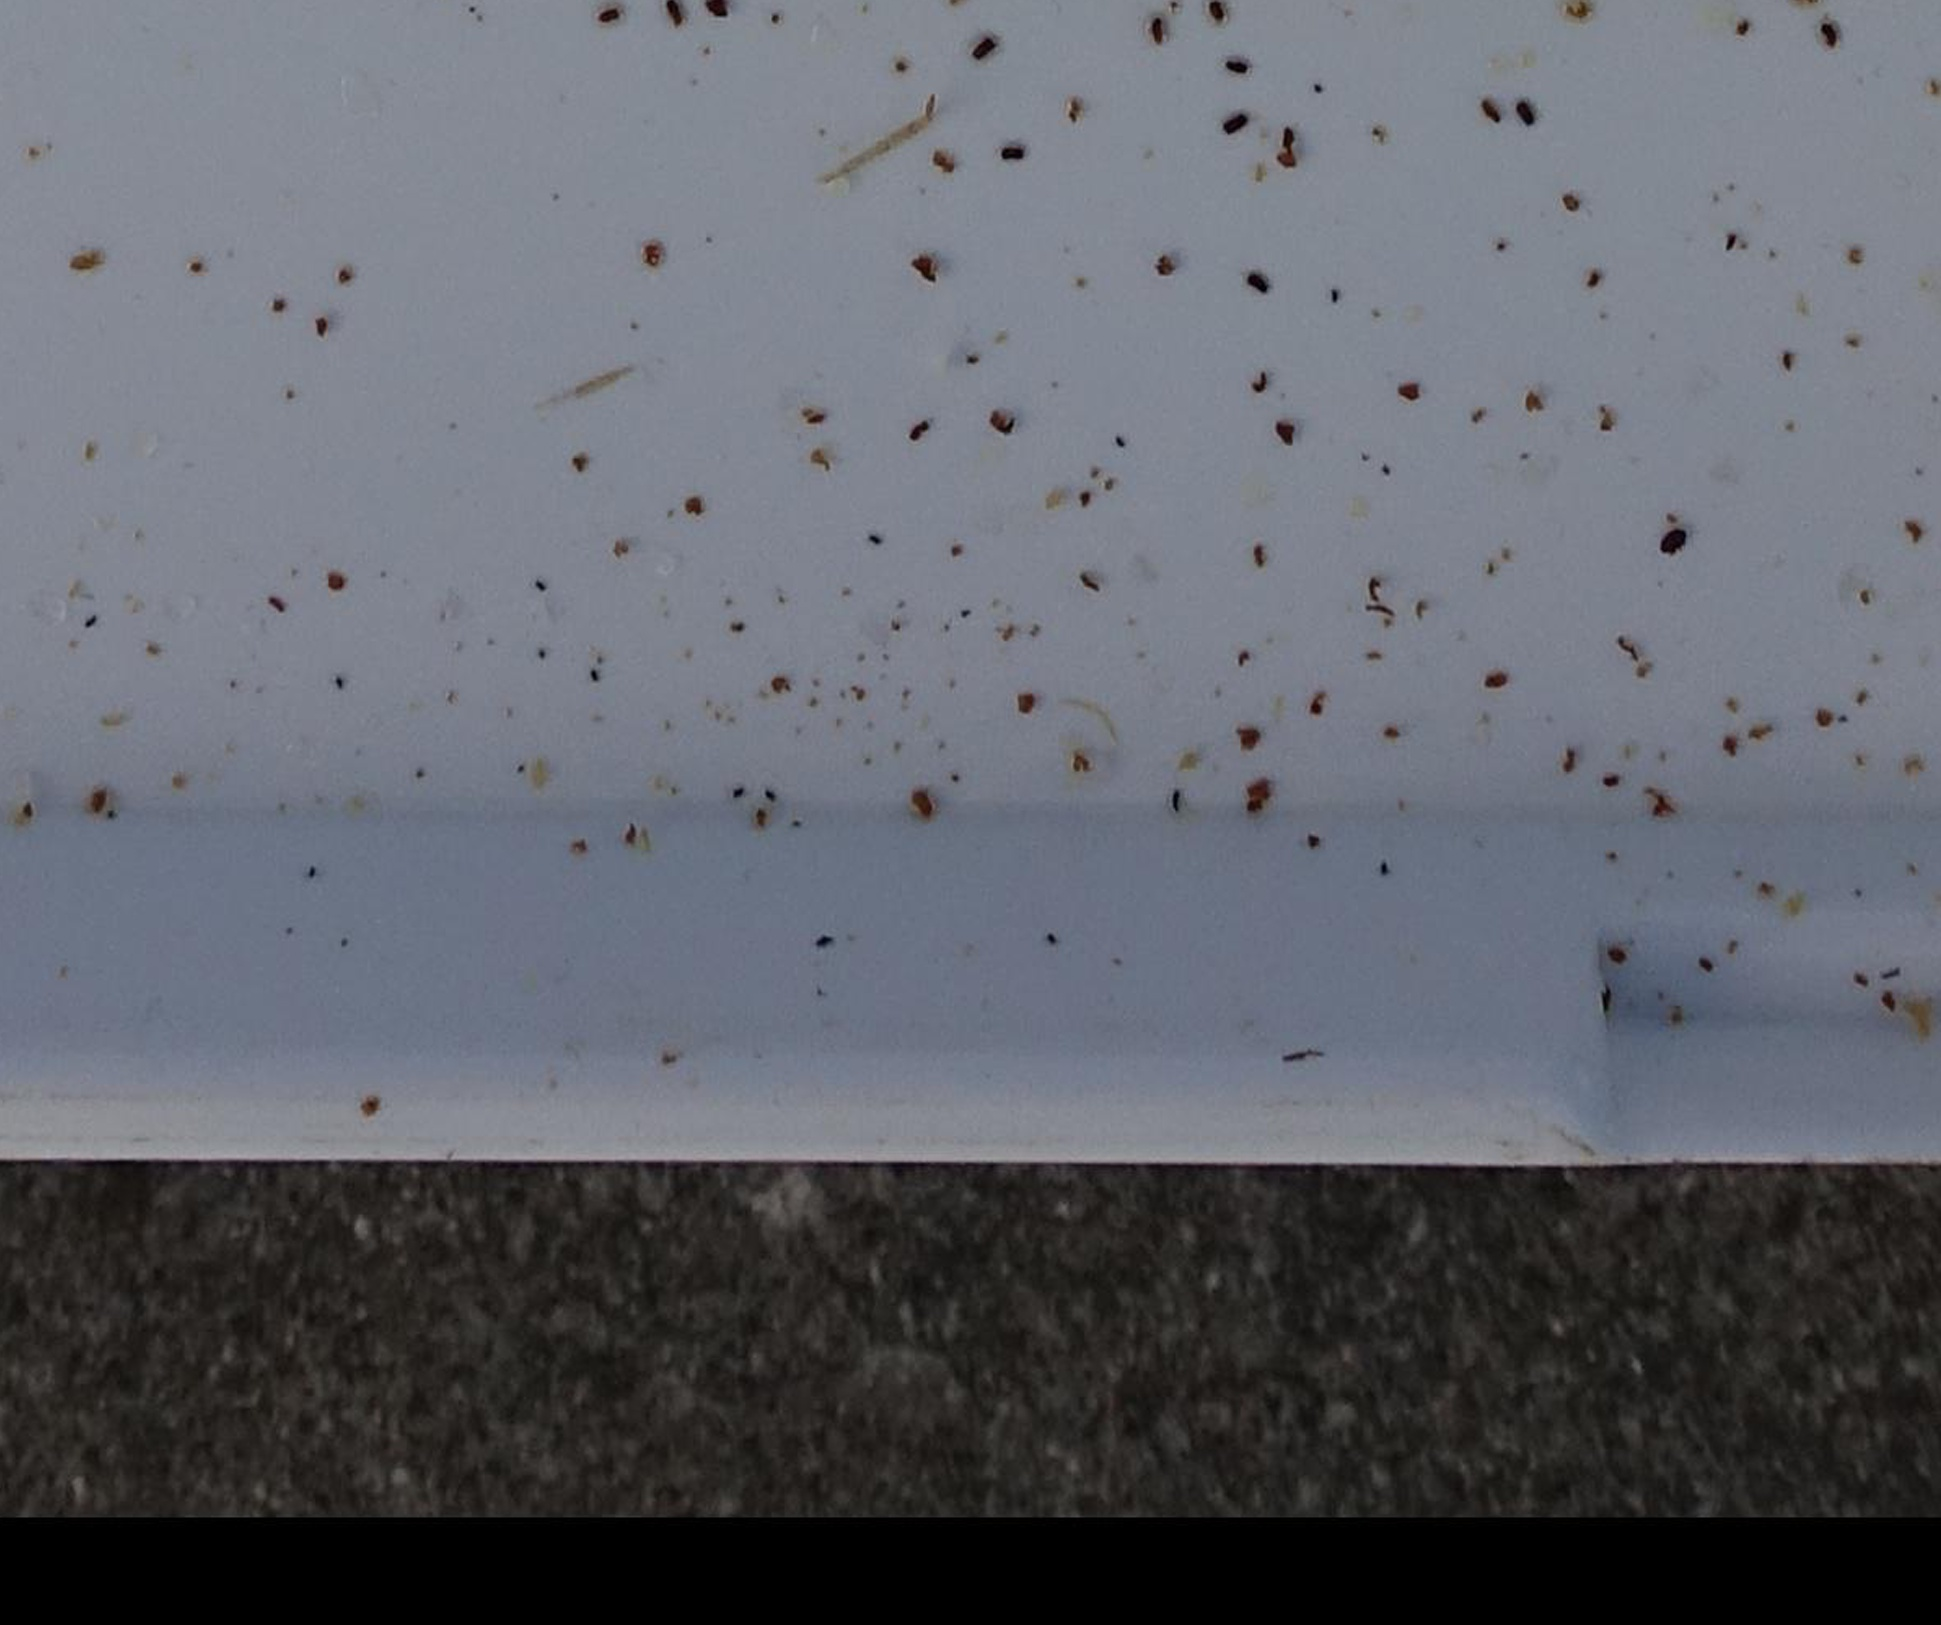Varroa: (1657, 529, 1680, 550)
